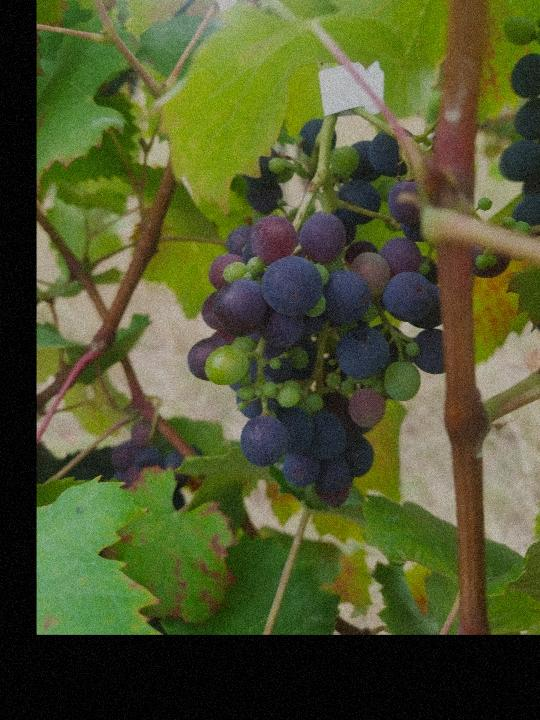grape: (185, 116, 446, 511)
